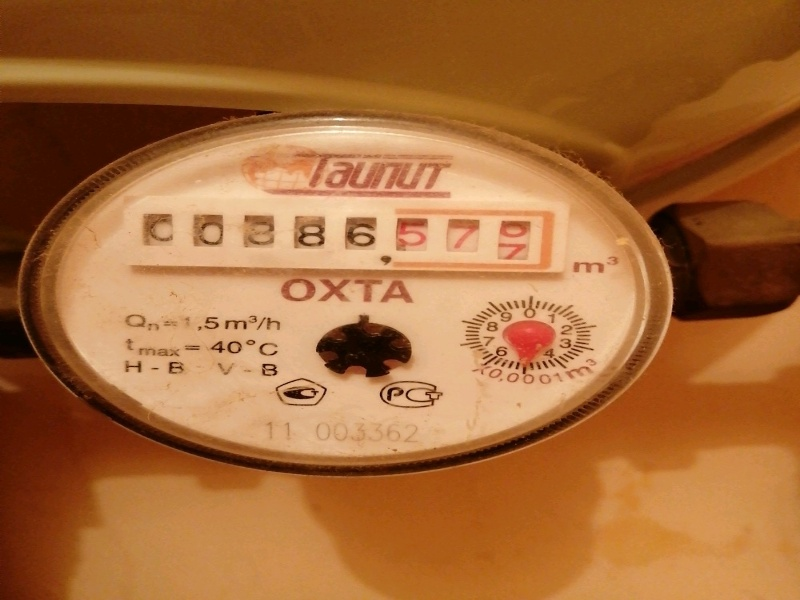meter: (133, 203, 561, 271)
